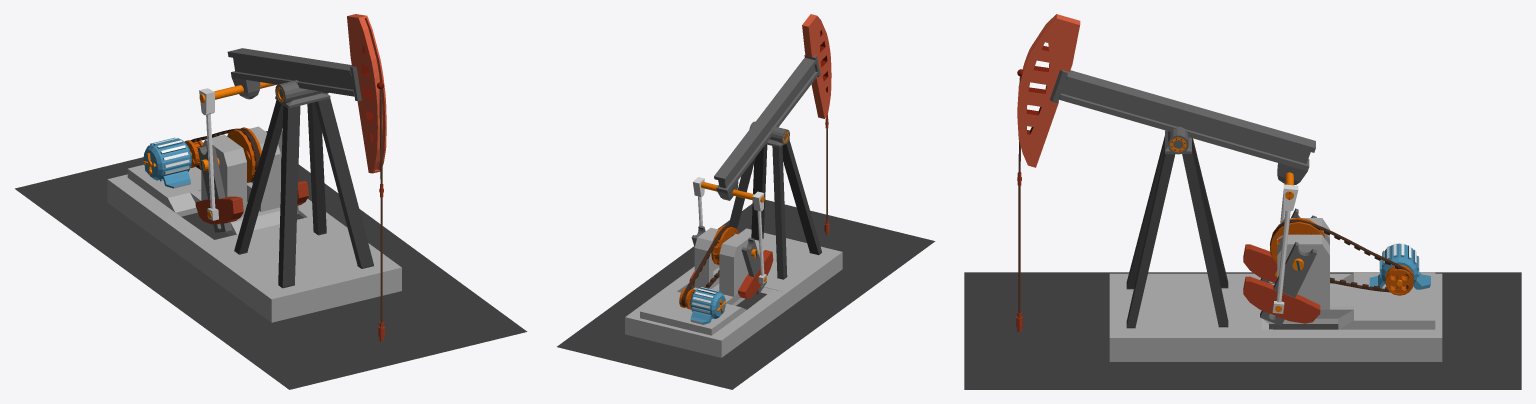
The model's file is Oil Pump.fbx.
3 renders of one model, left to right at view 1: azimuth 30°, elevation 25°; view 2: azimuth 150°, elevation 25°; view 3: azimuth 270°, elevation 25°, orthographic. The views are drawn at different scales.
Visible parts, largest first — view 1: Plane, Cube, Frame, Cylinder.002, Cylinder.005, Motor, Cylinder.001, Circle, Cube.004, WheelLarge, Cylinder.010; view 2: Plane, Cube, Frame, Cylinder.002, Cylinder.005, Motor, Circle, Cylinder.001, Cube.004, Cylinder.010, WheelLarge; view 3: Plane, Cube, Cylinder.002, Frame, Cylinder.005, Cylinder.001, Cube.004, Motor, Circle, Cylinder.010, WheelLarge, WheelSmall.
Boxes of the visible parts, box(x1,y1,x2,y2) form: Plane: box(15, 142, 527, 389); Cube: box(107, 126, 401, 322); Frame: box(234, 93, 373, 288); Cylinder.002: box(227, 48, 354, 104); Cylinder.005: box(347, 14, 386, 173); Motor: box(143, 137, 191, 188); Cylinder.001: box(195, 181, 308, 224); Circle: box(199, 88, 218, 220); Cube.004: box(197, 130, 299, 232); WheelLarge: box(227, 127, 261, 182); Cylinder.010: box(190, 128, 260, 182); Plane: box(557, 199, 935, 389); Cube: box(625, 227, 842, 357); Frame: box(728, 138, 821, 279); Cylinder.002: box(714, 57, 818, 200); Cylinder.005: box(802, 14, 831, 118); Motor: box(690, 287, 725, 324); Circle: box(693, 177, 766, 284); Cylinder.001: box(689, 250, 773, 298); Cube.004: box(691, 225, 766, 293); Cylinder.010: box(681, 225, 732, 307); WheelLarge: box(711, 225, 738, 265); Plane: box(964, 272, 1521, 389); Cube: box(1109, 218, 1442, 361); Cylinder.002: box(1059, 70, 1315, 184); Frame: box(1126, 130, 1228, 328); Cylinder.005: box(1017, 14, 1080, 167); Cylinder.001: box(1243, 244, 1320, 323); Cube.004: box(1260, 208, 1316, 325); Motor: box(1369, 243, 1430, 289); Circle: box(1272, 183, 1298, 313); Cylinder.010: box(1270, 219, 1413, 292); WheelLarge: box(1270, 217, 1325, 263); WheelSmall: box(1385, 264, 1413, 295).
Bounding box in the file's own units: 1000 × 2000 × 1247.
Materials: 1 (1 with a texture image).
